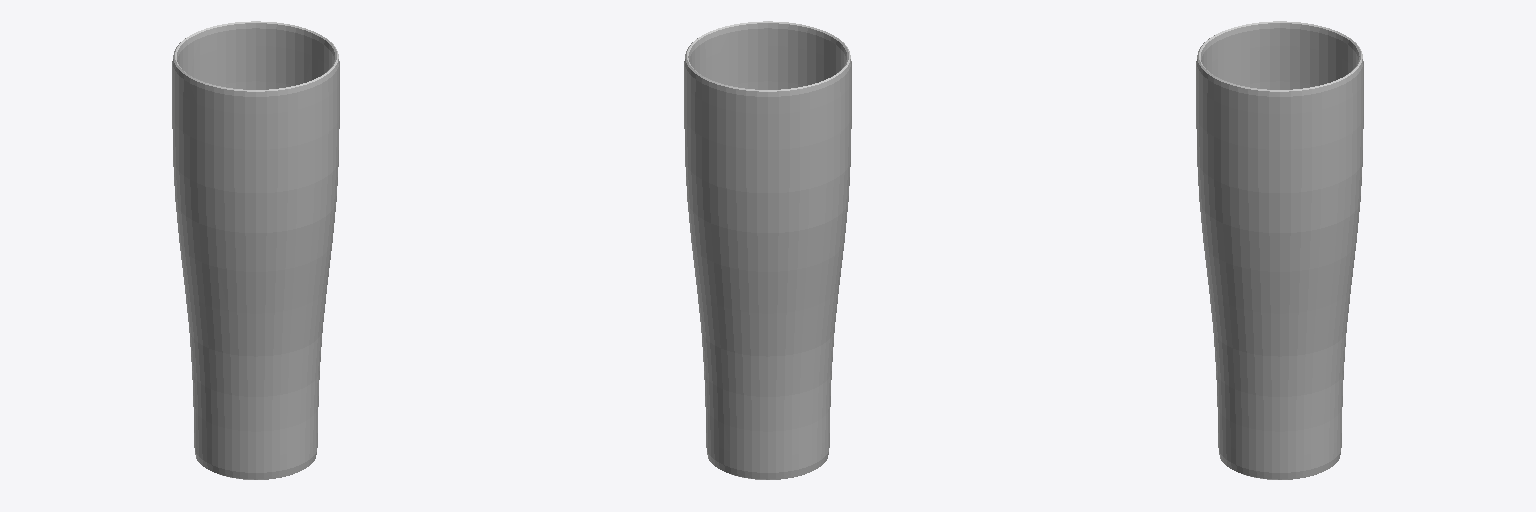
The model's file is heineken glass.obj.
3 renders of one model, left to right at view 1: azimuth 30°, elevation 25°; view 2: azimuth 150°, elevation 25°; view 3: azimuth 270°, elevation 25°, orthographic.
Visible parts, largest first — view 1: heineken_glass_Cylinder.037; view 2: heineken_glass_Cylinder.037; view 3: heineken_glass_Cylinder.037.
Boxes of the visible parts, <box> form: heineken_glass_Cylinder.037: <box>172,21,339,479</box>; heineken_glass_Cylinder.037: <box>684,21,851,479</box>; heineken_glass_Cylinder.037: <box>1196,21,1363,479</box>.
Bounding box in the file's own units: 0.076 × 0.2005 × 0.076.